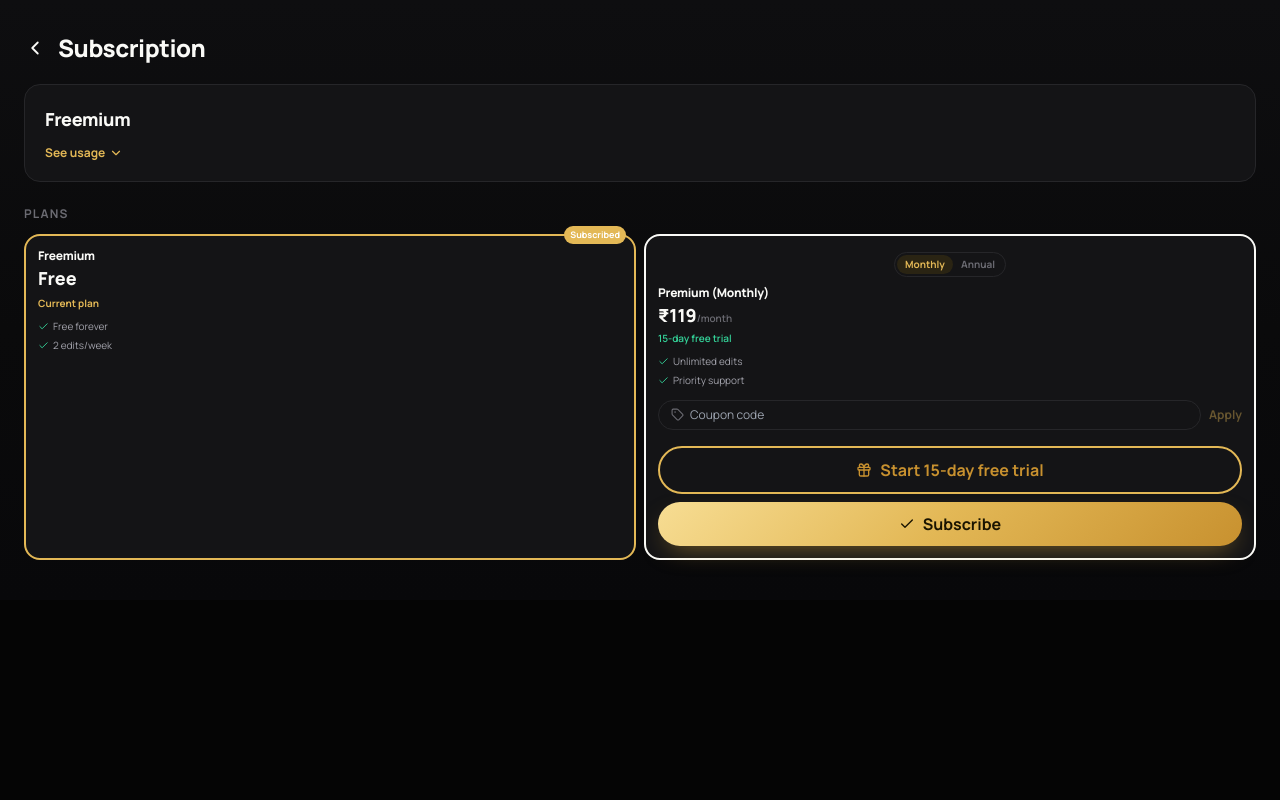
Subscription screen › a linked Monthly/Annual pair renders as one toggle card › switches price and benefits when toggled to Annual, showing a correctly-calculated discount tag
The image size is (1280, 800).
Expected: the element with test id "subscription-plan-premium-premium_monthly" shows "₹119", [658, 303, 697, 327]
Click the button with test id "subscription-plan-toggle-annual-premium_monthly". click: x=978, y=264
box: [953, 255, 1003, 274]
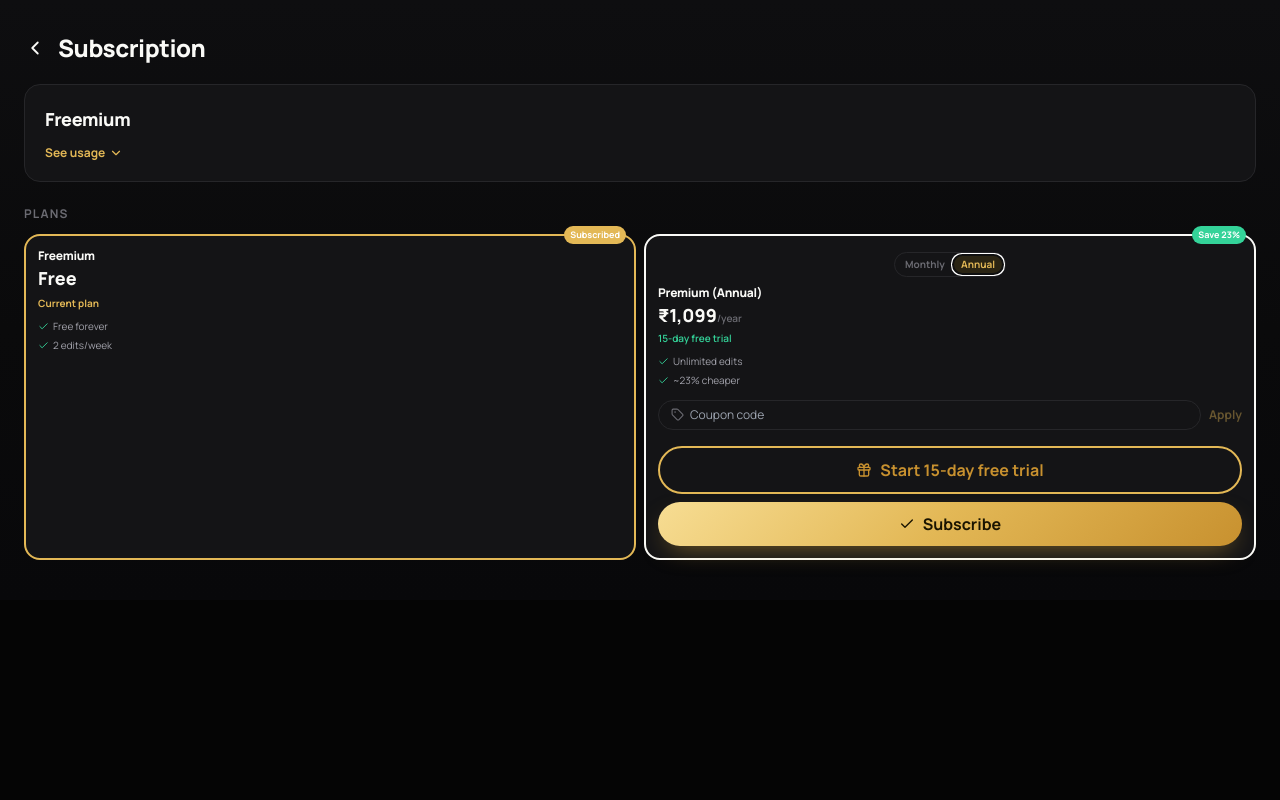
Expected: the element with test id "subscription-plan-premium-premium_monthly" shows "₹1,099", [658, 303, 717, 327]
Expected: the element with test id "subscription-plan-premium-premium_monthly" shows "~23% cheaper", [673, 372, 740, 386]
Expected: the text with test id "subscription-plan-discount-badge-premium_monthly" reads "Save 23%", [1192, 226, 1246, 244]
Click the button with test id "subscription-plan-toggle-monthly-premium_monthly". click: x=925, y=264
box: [897, 255, 953, 274]
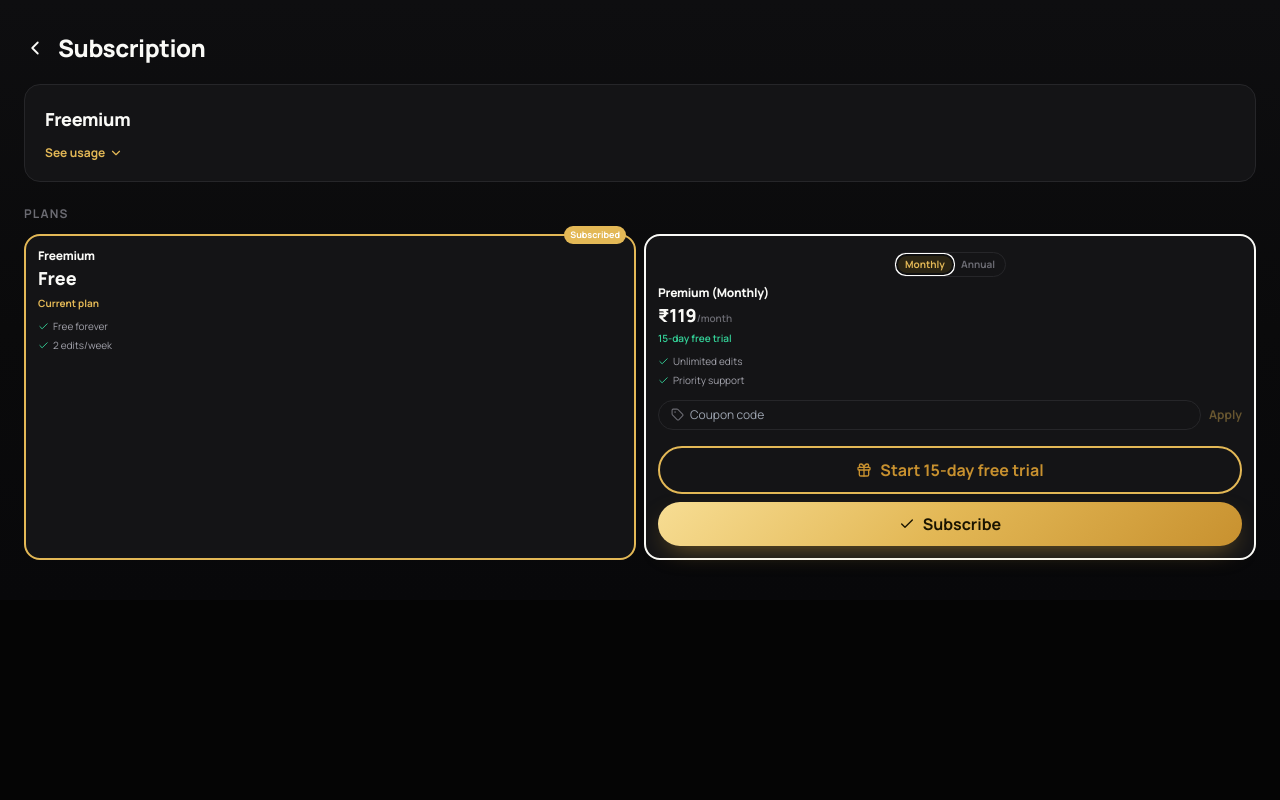
Expected: the element with test id "subscription-plan-premium-premium_monthly" shows "₹119", [658, 303, 697, 327]
Expected: the text with test id "subscription-plan-discount-badge-premium_monthly" is gone
